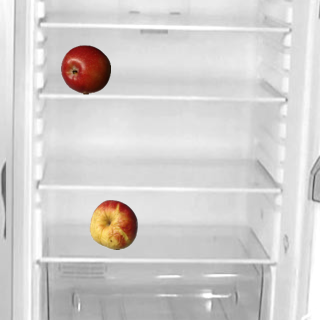Apple Braeburn: (60, 44, 110, 94)
Apple Red Yellow 1: (88, 199, 138, 249)
